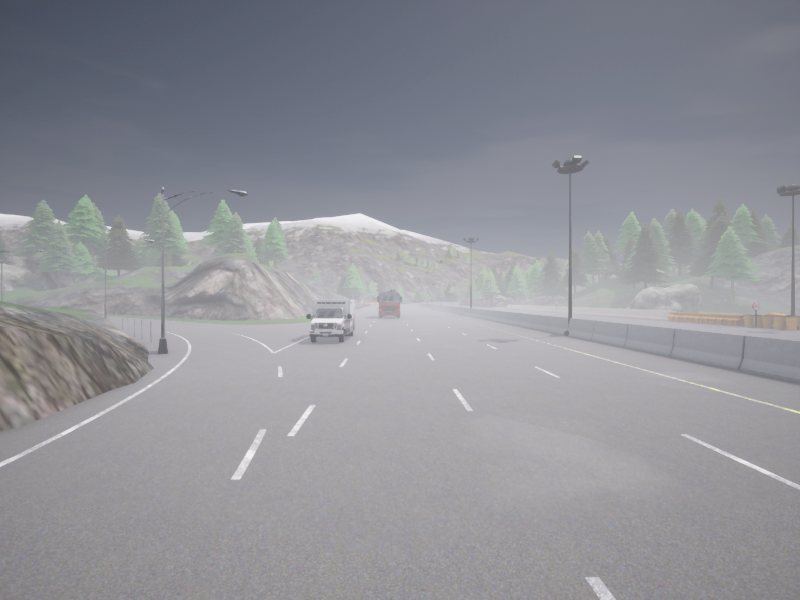vehicle: (306, 300, 355, 342), (377, 290, 401, 317)
